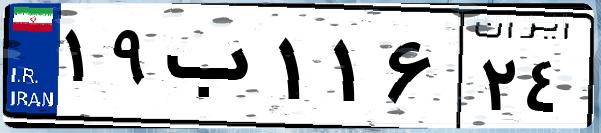1: (270, 28, 330, 110), (330, 28, 385, 110), (57, 26, 110, 100)
2: (475, 38, 525, 113)
4: (525, 38, 570, 115)
6: (385, 28, 445, 110)
9: (110, 28, 158, 98)
ب: (158, 20, 270, 120)
